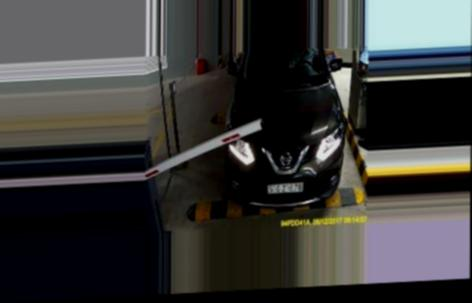License_Plate: (266, 181, 308, 197)
